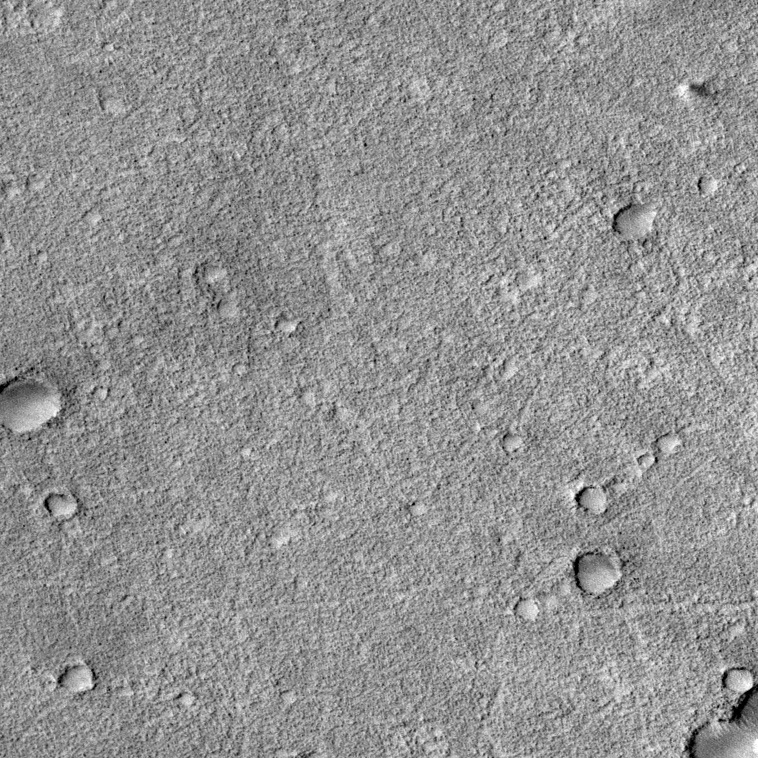dust_devil: (675, 80, 718, 102)
